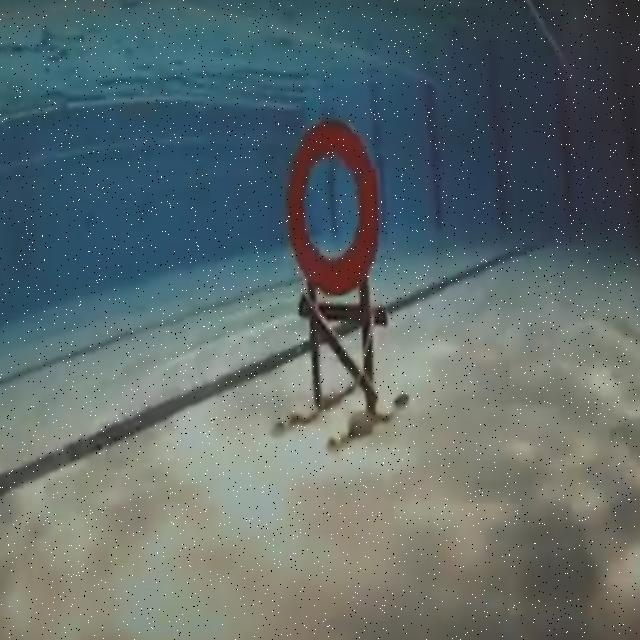Circle: (287, 119, 381, 298)
